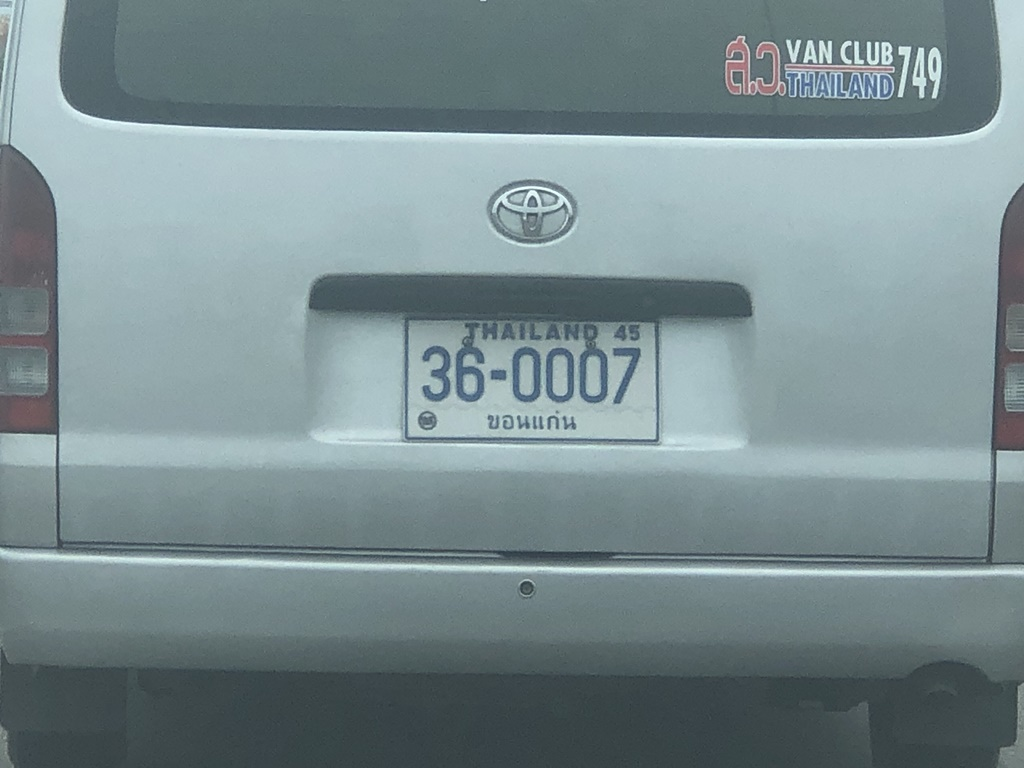seven: (604, 340, 650, 413)
six: (448, 342, 496, 408)
three: (414, 335, 455, 410)
zero: (502, 338, 543, 410), (541, 347, 581, 408), (574, 348, 614, 405)
